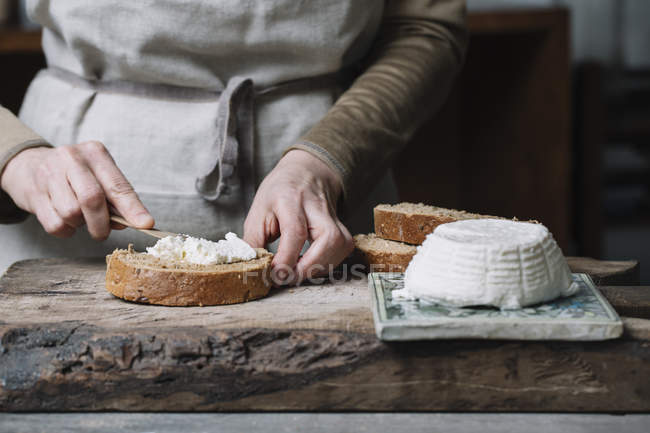slice of bread: (116, 249, 288, 302)
